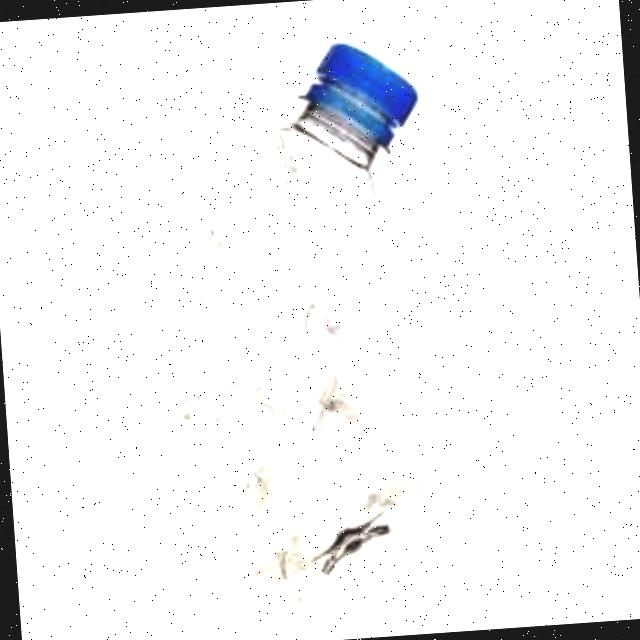Plastic: (111, 20, 508, 632), (0, 51, 51, 640), (614, 8, 640, 597)
